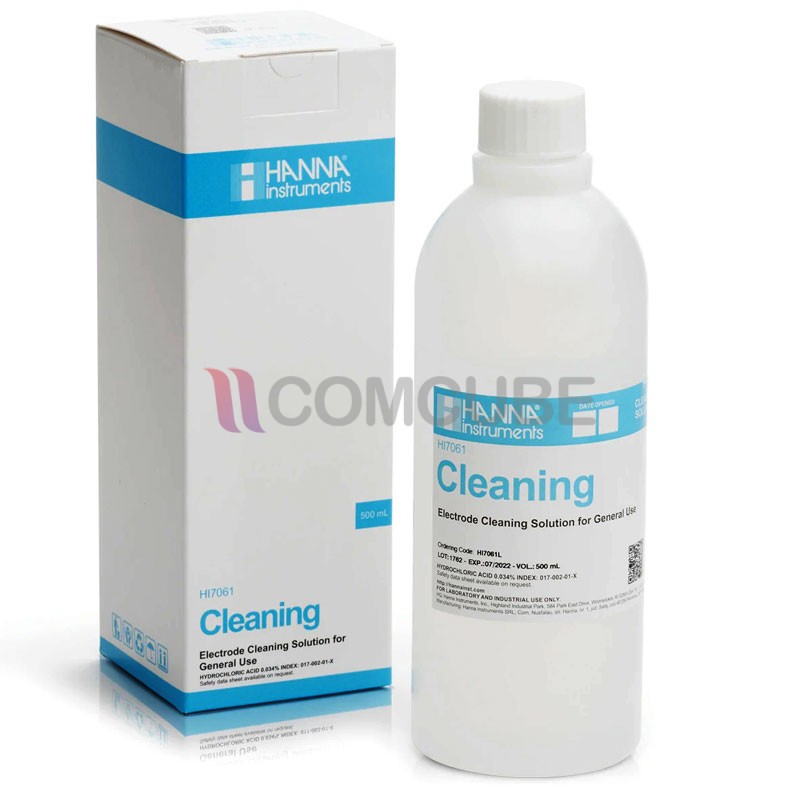Cleaning_solution: (404, 67, 661, 786)
